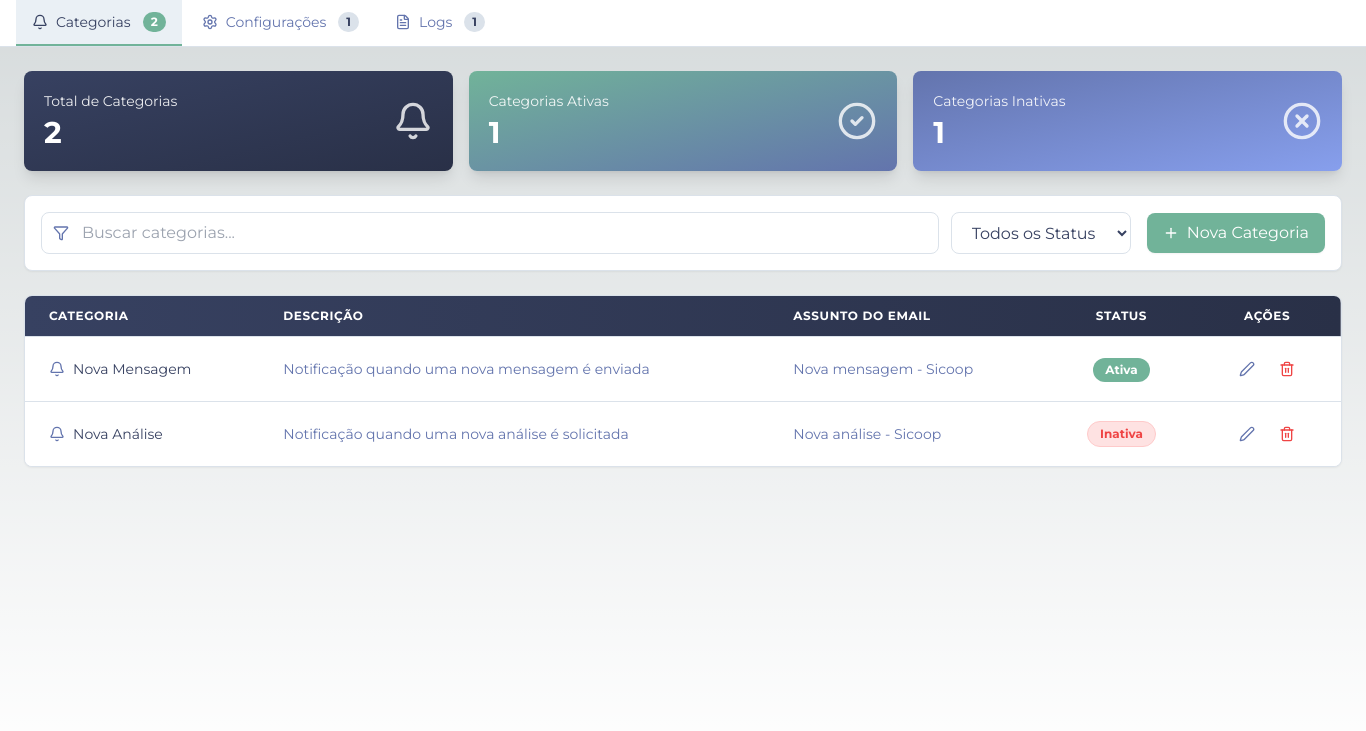
Test: NotificationsManager › modal de categoria › deve abrir o modal de nova categoria
Click the button "Nova Categoria": [1236, 233] box [1147,213,1325,253]
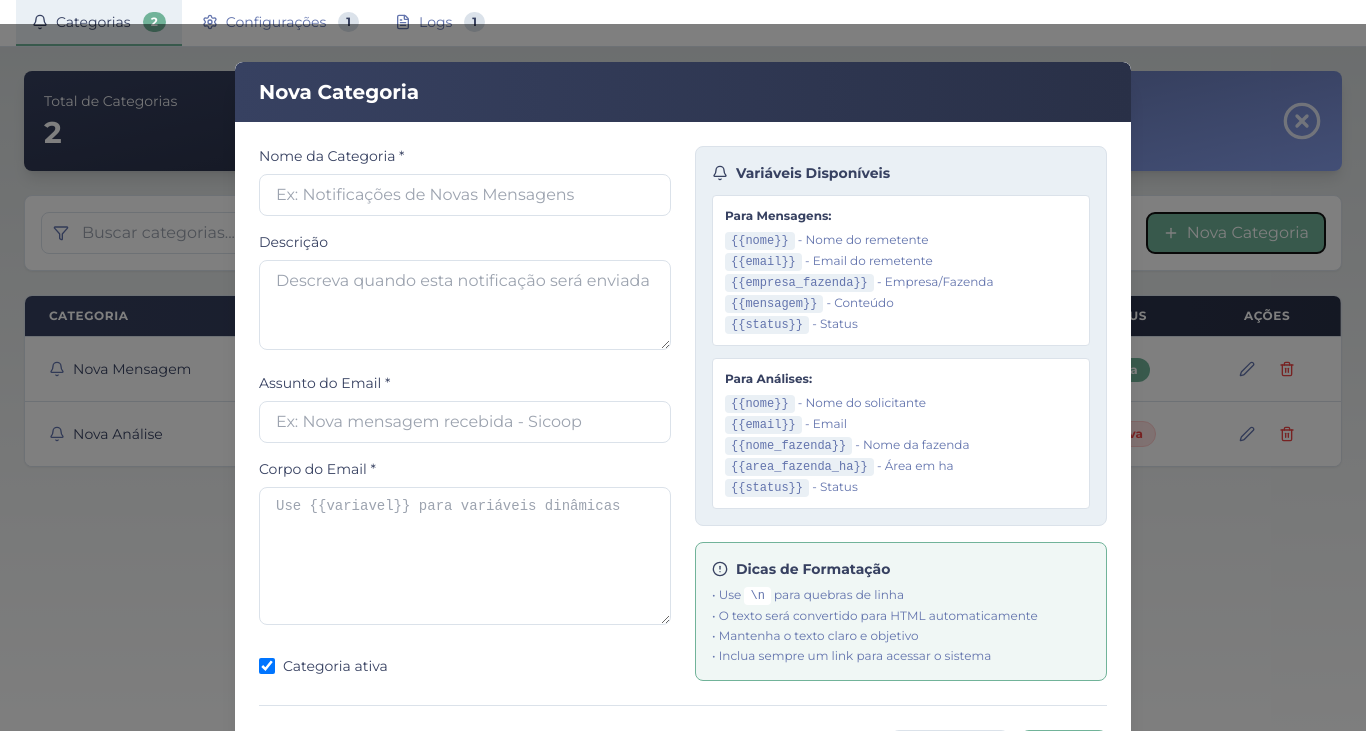
Expected: the heading "Nova Categoria" is shown, [259,80,419,104]
Expected: the field with placeholder "Ex: Notificações de Novas Mensagens" is shown, [259,174,671,216]
Expected: the text box with placeholder "Descreva quando esta notificação será enviada" is shown, [259,260,671,350]
